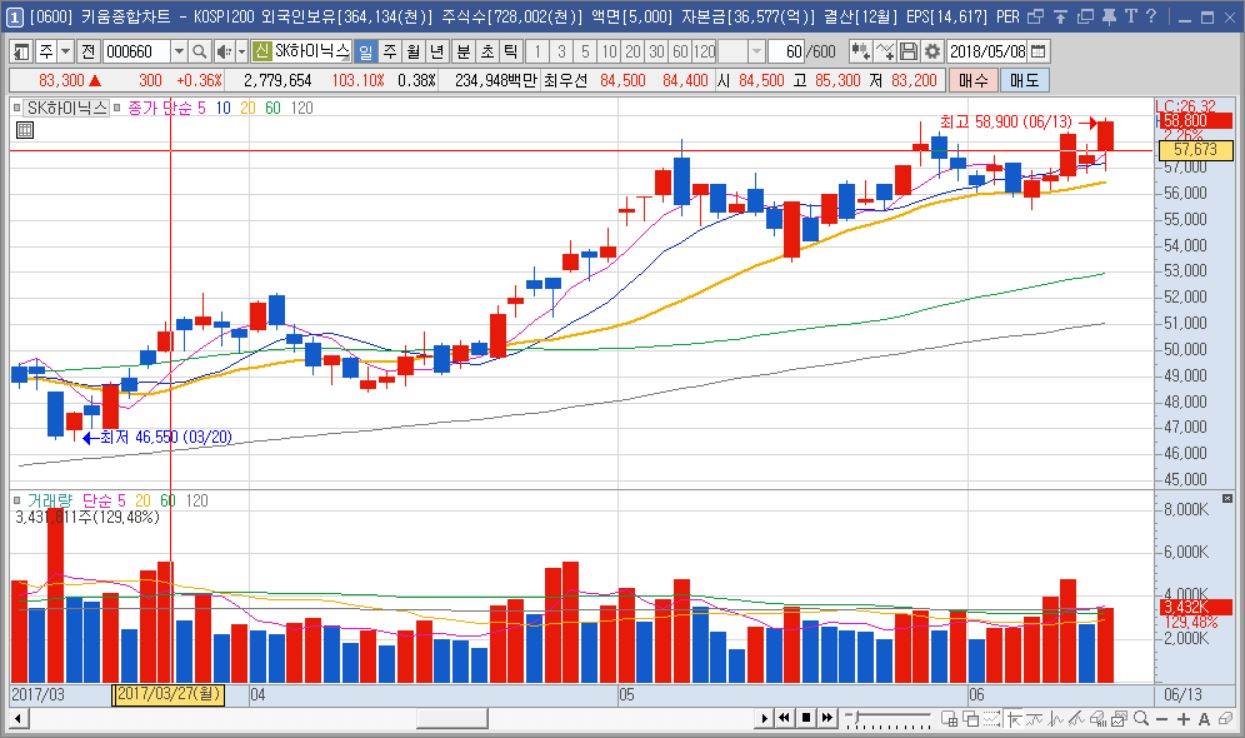up: (360, 108, 1115, 681)
